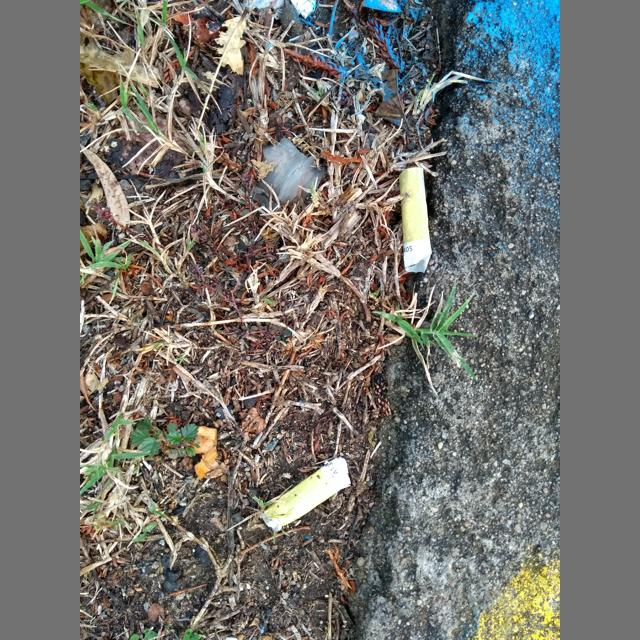litter: (260, 457, 350, 531), (256, 137, 323, 206), (399, 167, 431, 272)
